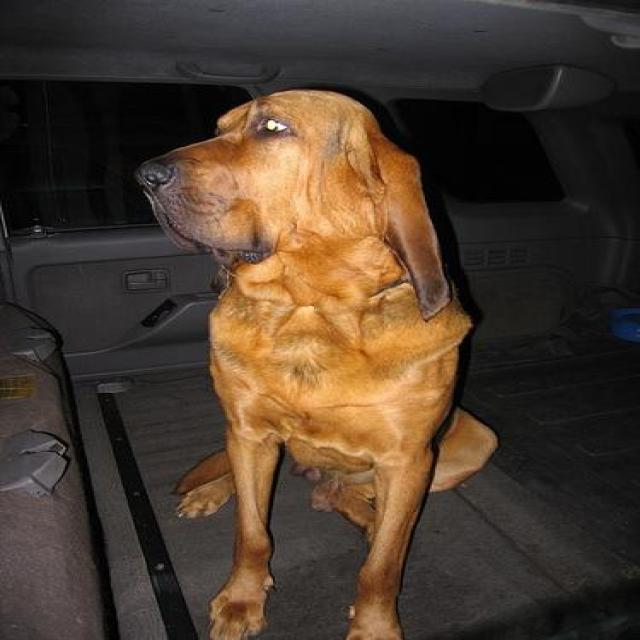bloodhound: (123, 85, 500, 638)
